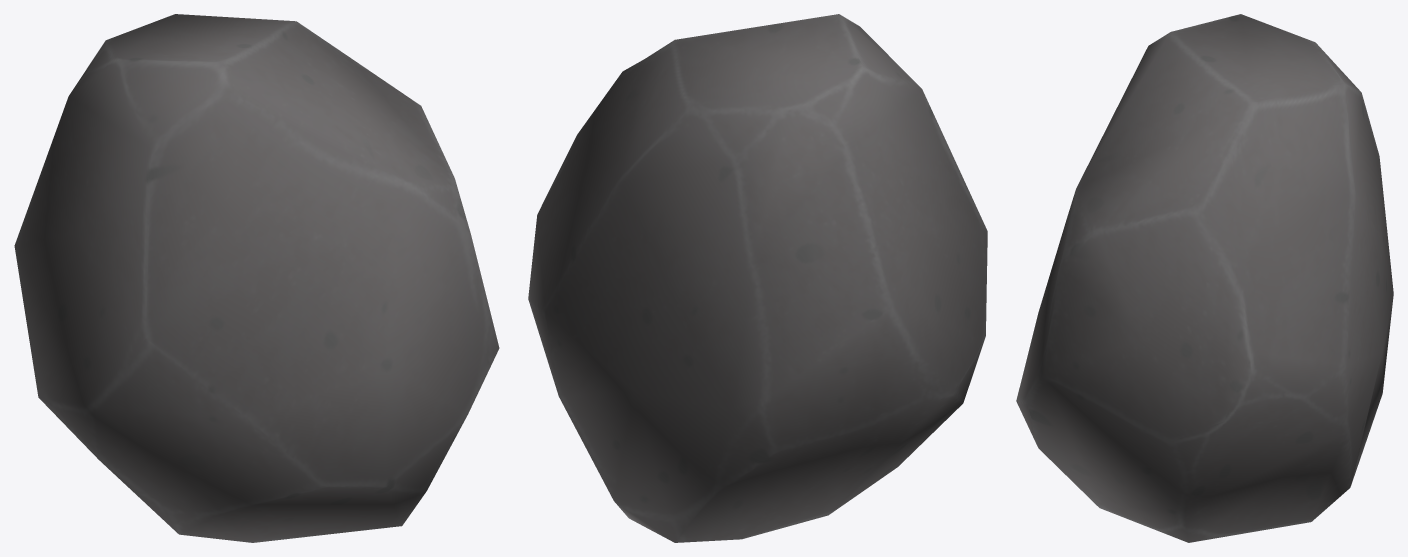
Rendered from stylizedrock03.glb.
The picture shows the model from 3 angles, left to right: view 1: azimuth 30°, elevation 25°; view 2: azimuth 150°, elevation 25°; view 3: azimuth 270°, elevation 25°; orthographic projection. The views are drawn at different scales.
Visible parts, largest first — view 1: stylizedRock03; view 2: stylizedRock03; view 3: stylizedRock03.
Boxes of the visible parts, x1,y1,x2,y2 form: stylizedRock03: [14, 14, 499, 542]; stylizedRock03: [528, 14, 987, 542]; stylizedRock03: [1016, 14, 1393, 542].
Size of what is drawn, in the model's own units: 1.56 by 1.73 by 1.37.
Materials: 1 (1 with a texture image).
